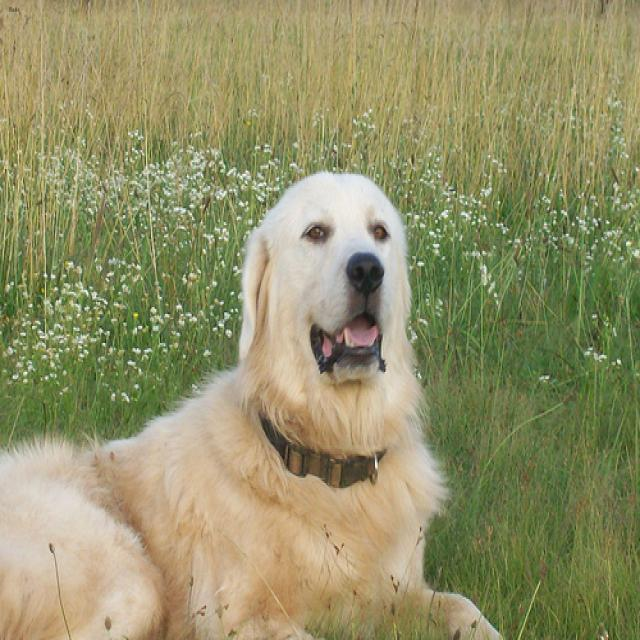dog-great_pyrenees: (1, 159, 518, 637)
